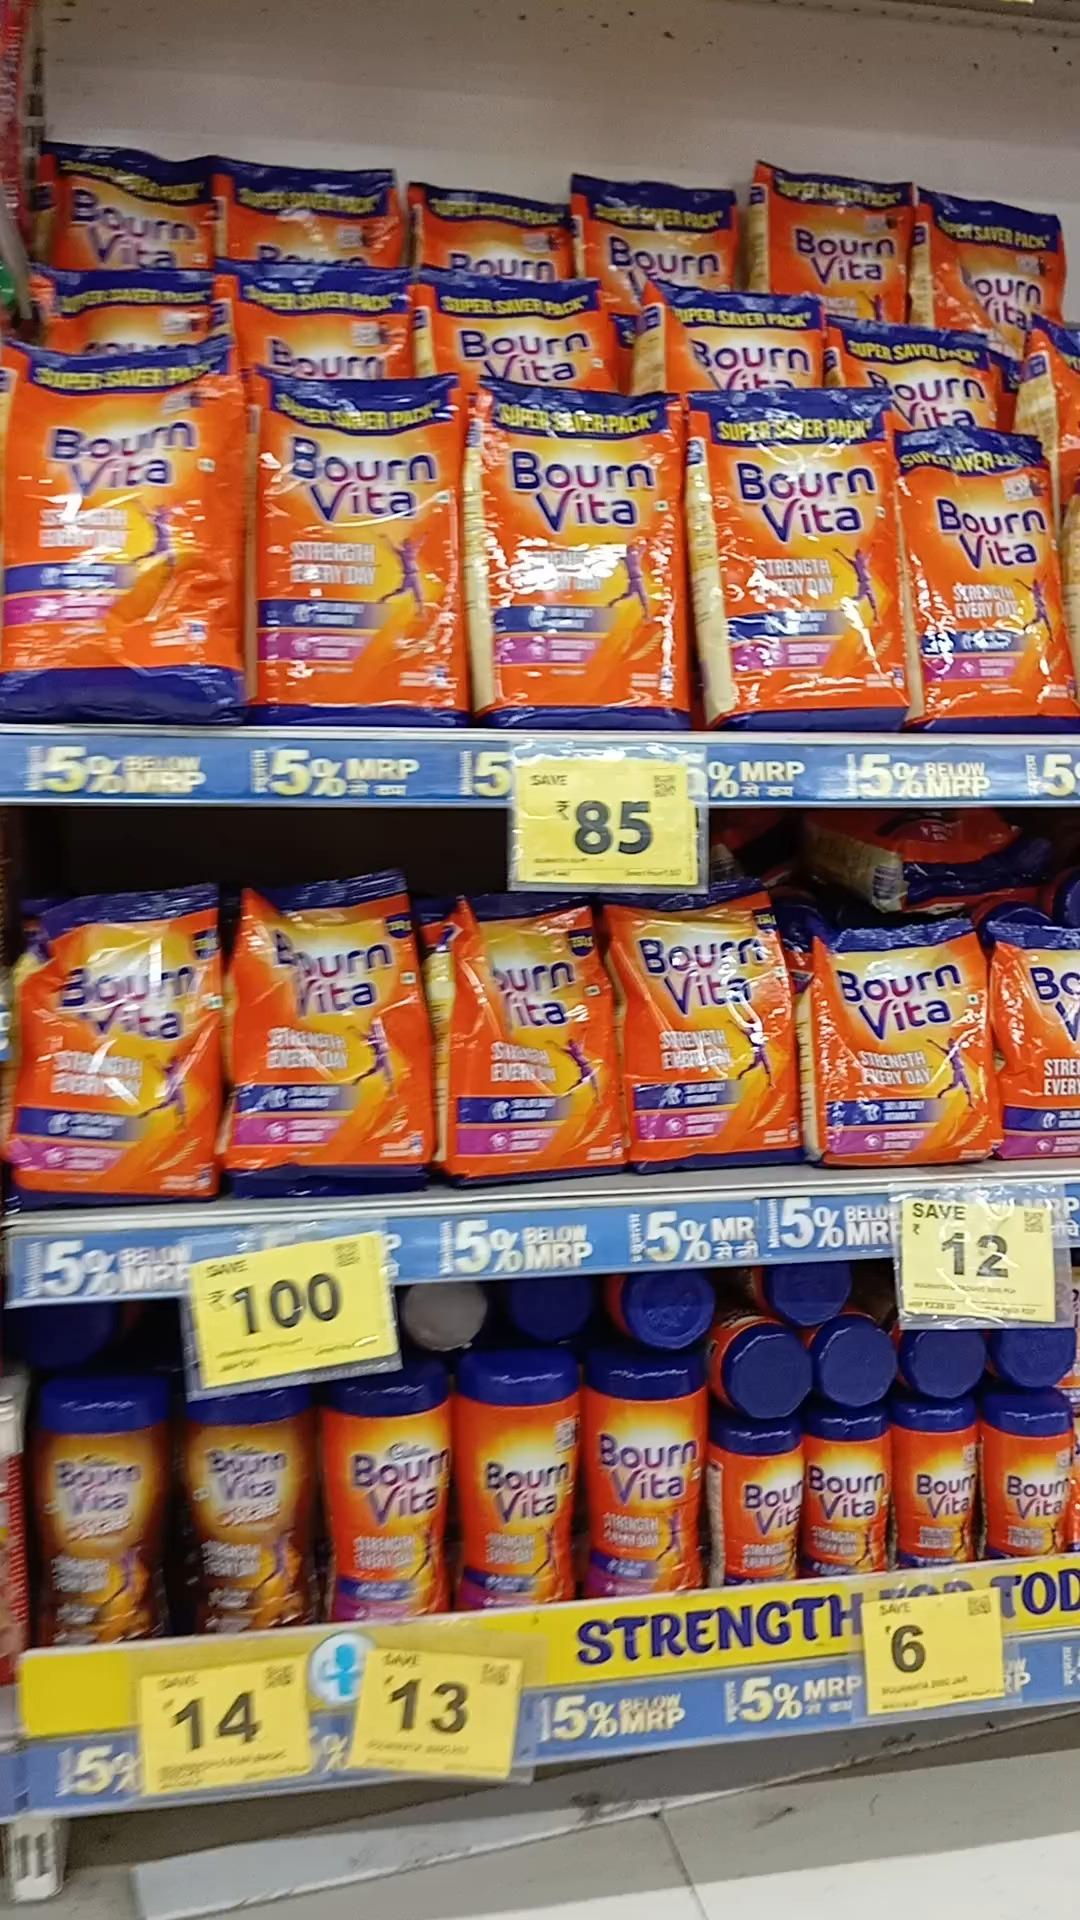BOURN_VITA_1_KG_POUCH: (0, 349, 244, 716), (472, 377, 683, 717), (252, 365, 454, 717), (696, 386, 894, 721), (909, 427, 1077, 728)
BOURN_VITA_200_G_JAR: (720, 1420, 800, 1582), (988, 1396, 1072, 1549), (897, 1396, 975, 1560), (810, 1414, 886, 1575)
BOURN_VITA_500_G_JAR: (324, 1382, 452, 1615), (464, 1358, 579, 1602), (591, 1353, 705, 1592)
BOURN_VITA_500_G_POUCH: (815, 920, 986, 1162)
BOURN_VITA_750_G_POUCH: (228, 880, 431, 1187), (11, 891, 208, 1200), (443, 905, 616, 1179), (622, 895, 793, 1166)
BOURN_VITA_FIVE_STAR_MAGIC_500_G_JAR: (41, 1379, 170, 1636), (189, 1396, 314, 1625)
